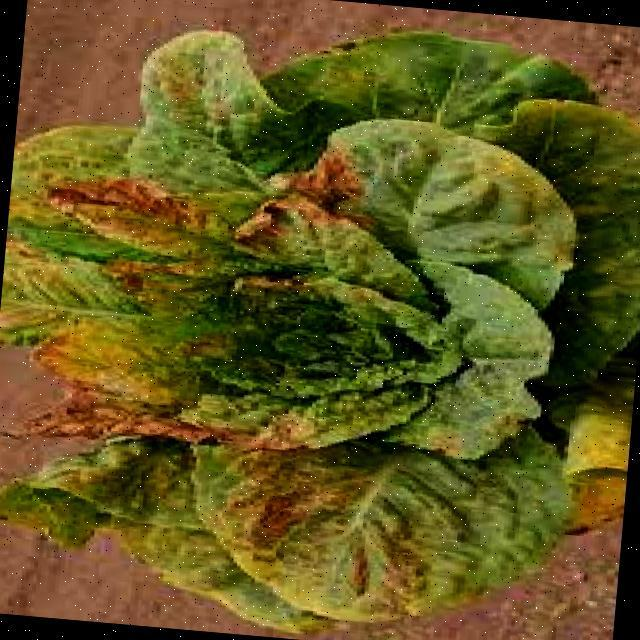Lettuce Mosaic Virus: (41, 128, 482, 470)
